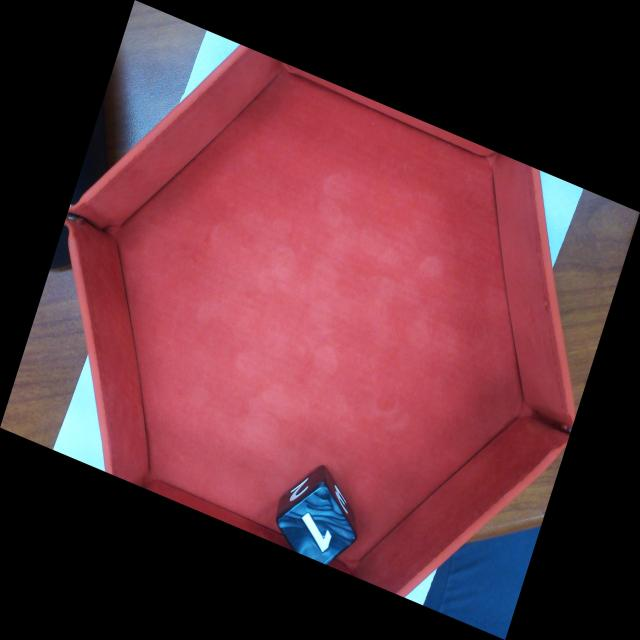dice: (277, 485, 359, 563)
